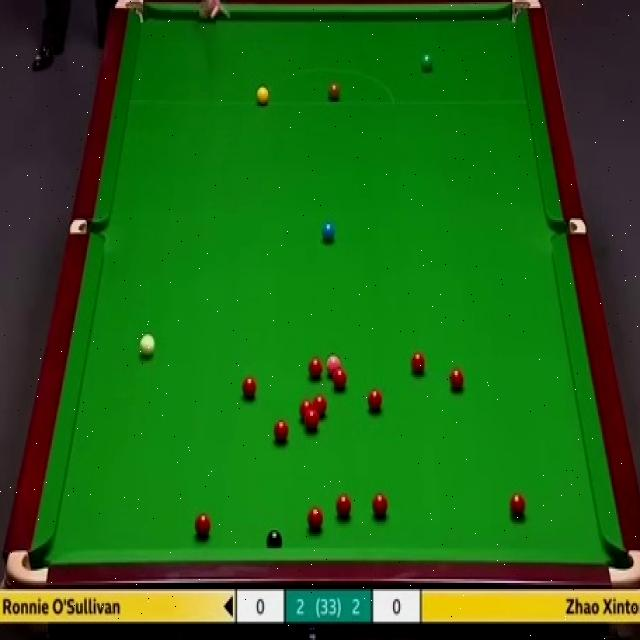black-ball: (268, 529, 286, 548)
blue-ball: (321, 223, 336, 240)
brown-ball: (328, 83, 342, 106)
green-ball: (422, 54, 432, 68)
pink-ball: (326, 354, 341, 374)
red-ball: (508, 490, 526, 519), (193, 512, 211, 538), (448, 366, 466, 392), (336, 491, 352, 519), (312, 394, 329, 420), (307, 507, 324, 532), (276, 419, 292, 443), (407, 355, 423, 379), (373, 494, 389, 517), (242, 378, 258, 399), (305, 410, 319, 432), (367, 391, 383, 409), (307, 357, 321, 377), (300, 400, 313, 420), (333, 368, 346, 388)
white-ball: (139, 334, 155, 359)
yellow-ball: (256, 86, 269, 106)
